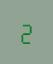two: (19, 20, 32, 44)
